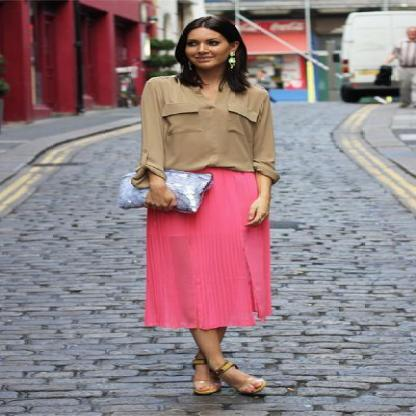bag: (119, 166, 210, 210)
shirt: (133, 75, 279, 191)
shoe: (175, 342, 261, 392)
skirt: (140, 164, 278, 329)
